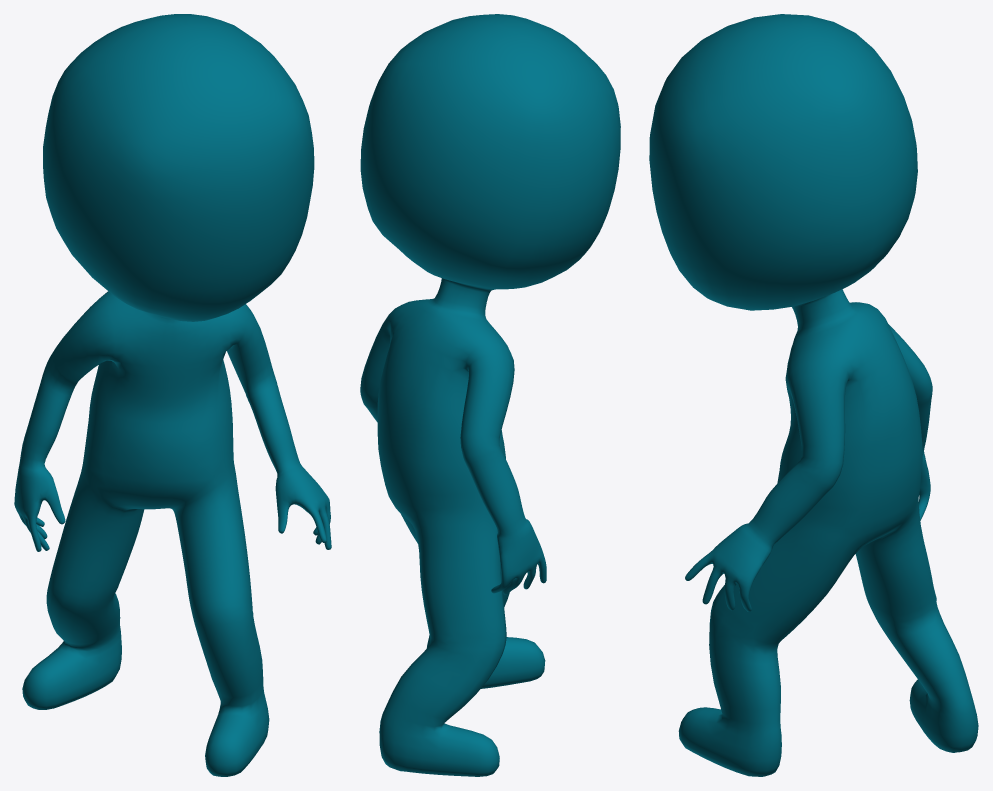
File: character_pose.fbx
The picture shows the model from 3 angles, left to right: view 1: azimuth 30°, elevation 25°; view 2: azimuth 150°, elevation 25°; view 3: azimuth 270°, elevation 25°; orthographic projection. The views are drawn at different scales.
Visible parts, largest first — view 1: StickFlex001; view 2: StickFlex001; view 3: StickFlex001.
Boxes of the visible parts, box(x1,y1,x2,y2) form: StickFlex001: box(14, 14, 331, 776); StickFlex001: box(360, 14, 620, 776); StickFlex001: box(649, 14, 978, 776).
Bounding box in the file's own units: 17.82 × 20.29 × 48.97.
